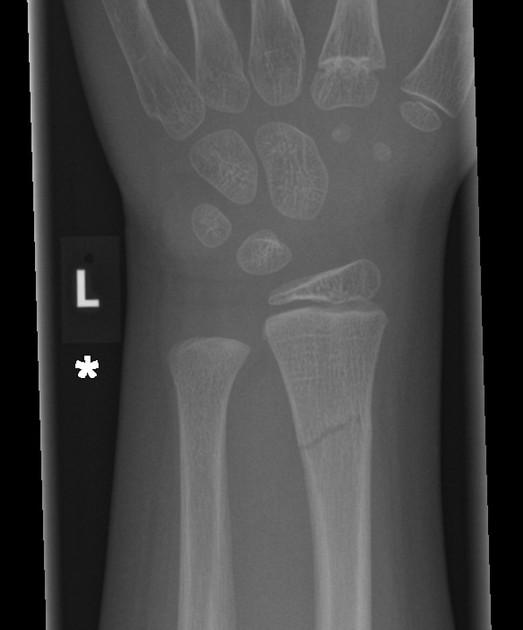fractured: (287, 414, 366, 454)
